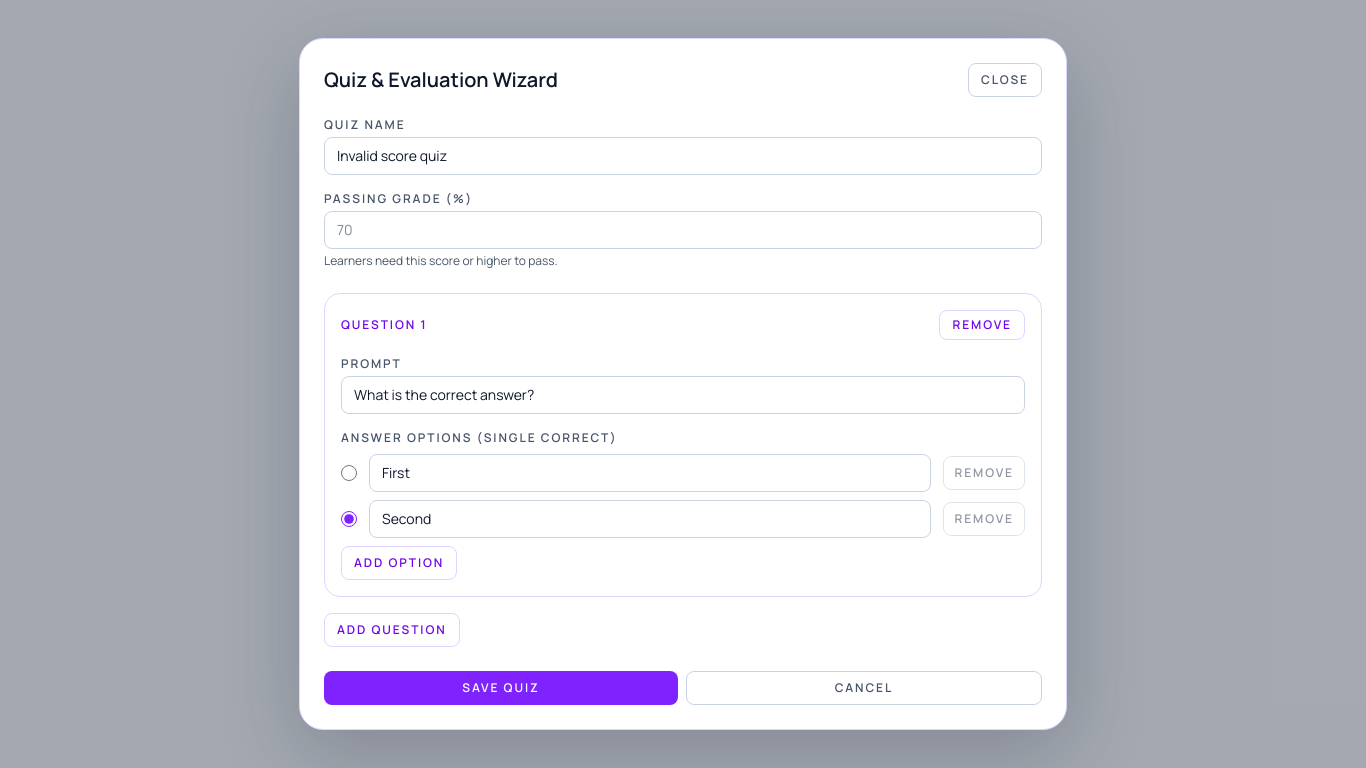
Test: QuizWizard › validates invalid passing grade values from initial data
Click the button "Save Quiz".
click(501, 688)  # box [324, 671, 678, 705]
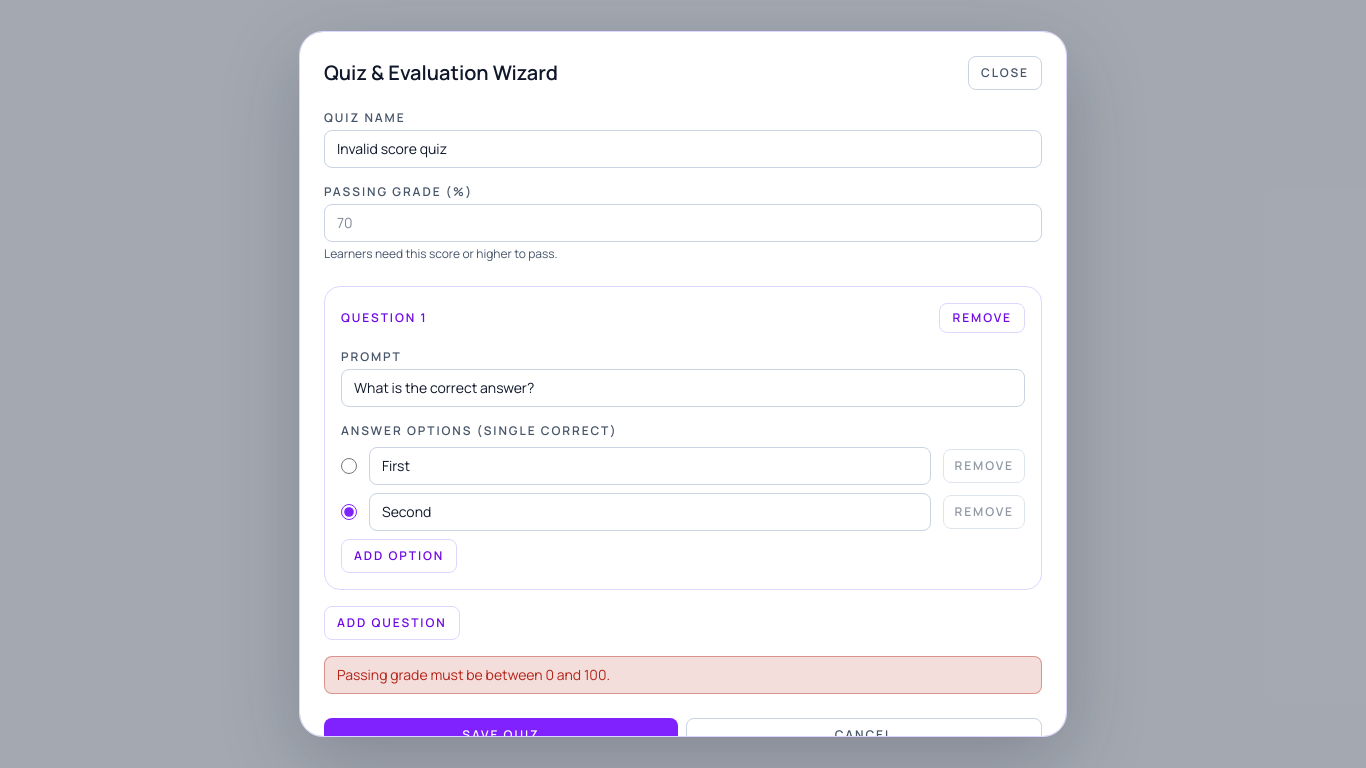
Expected: the text "Passing grade must be between 0 and 100." is shown, [324, 656, 1042, 694]
